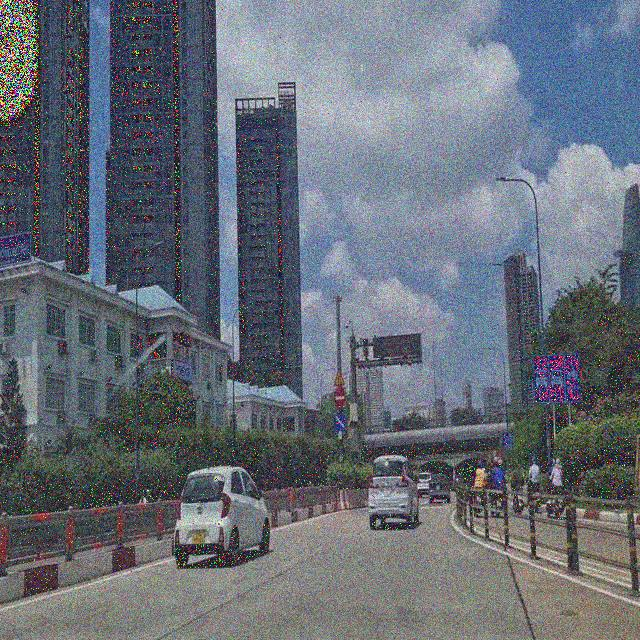Cấm đi ngược chiều: (332, 387, 346, 409)
Hướng phải đi vòng sang phải: (333, 412, 349, 431)
Làn đường cho từng xe: (530, 348, 583, 405)
Đường hẹp: (333, 369, 346, 388)
